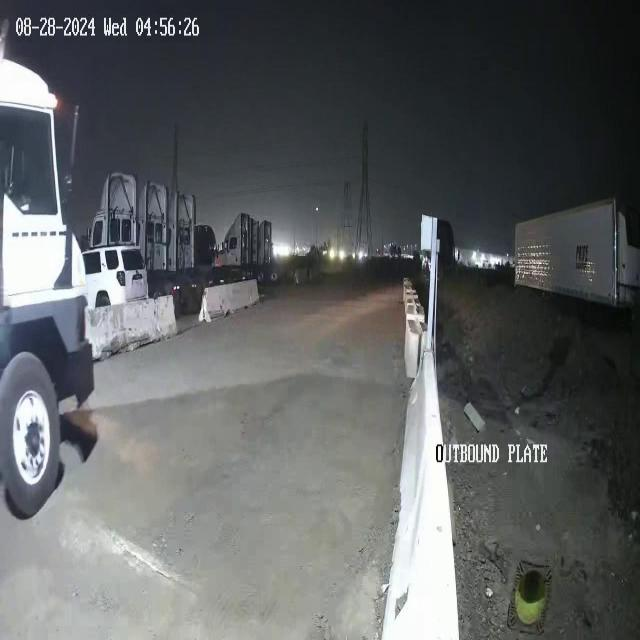TRUCK_IN: (0, 59, 95, 522)
